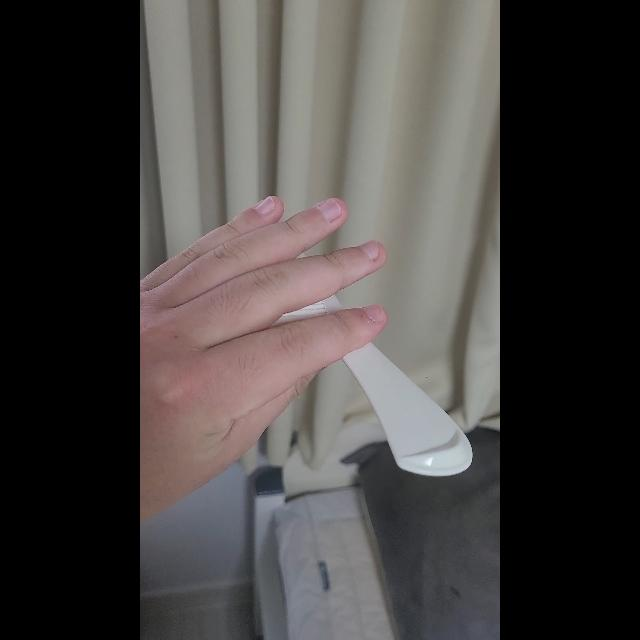COMB: (272, 295, 472, 477)
